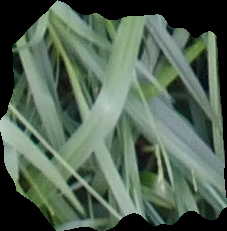grass: (1, 1, 226, 229)
